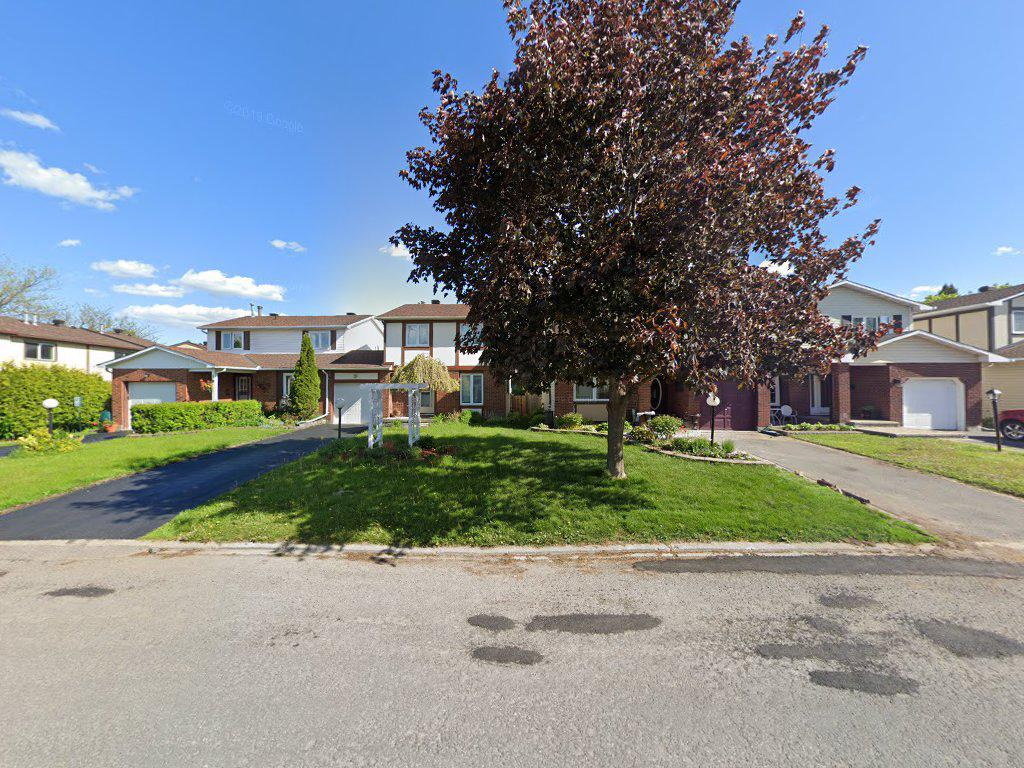trunk: (605, 358, 630, 488)
